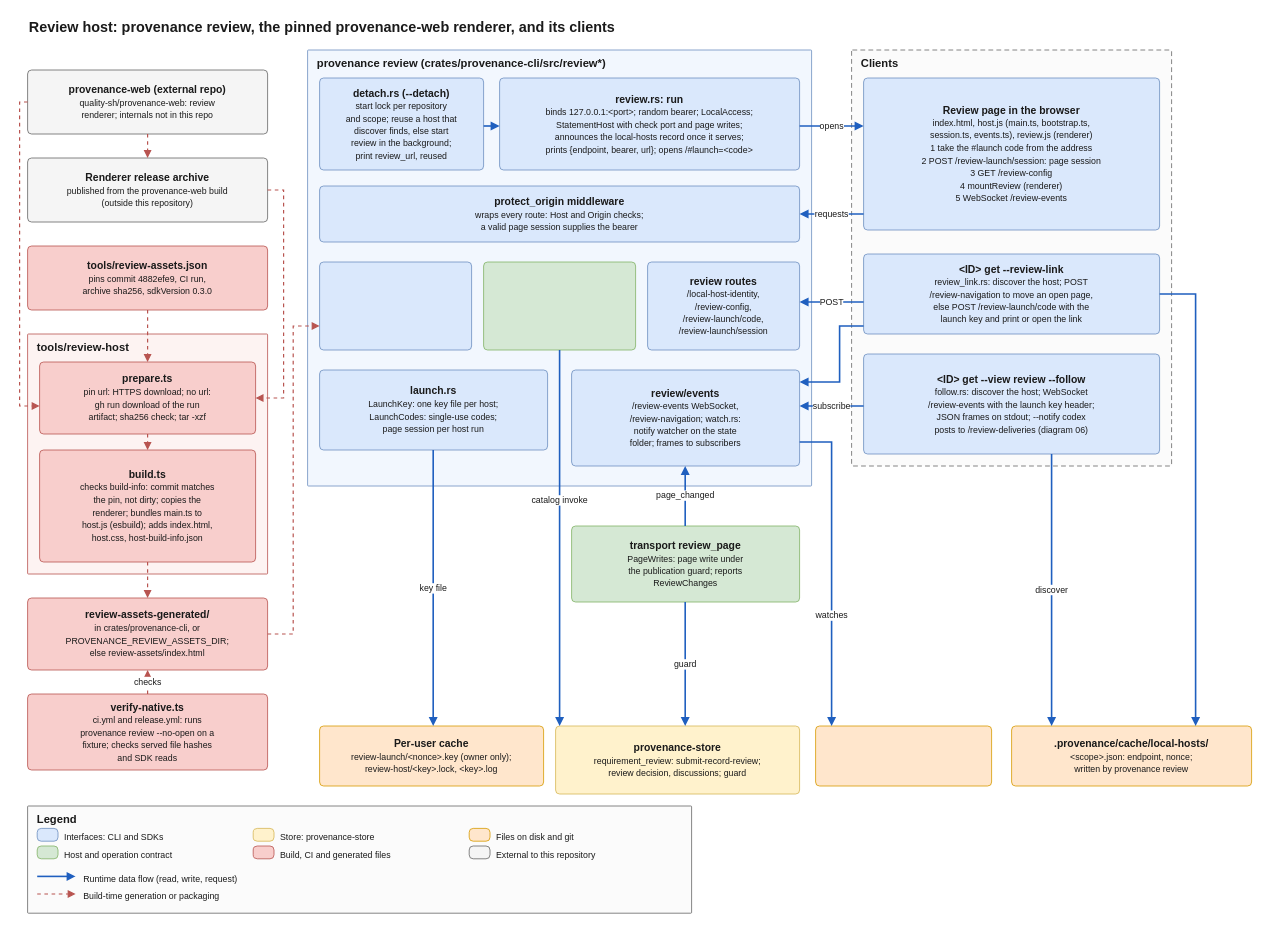
Image size: 1274x927. Some labels were removed from this diagram. Here are the shapes that lost their labels. From the top down, the centre of each, then its label:
point (395, 305): assets::serve fallback route; embedded page files (build.rs)
point (559, 305): host.router() catalog routes, GET /metadata (diagram 04)
point (903, 755): .provenance/state/ canonical JSONL
